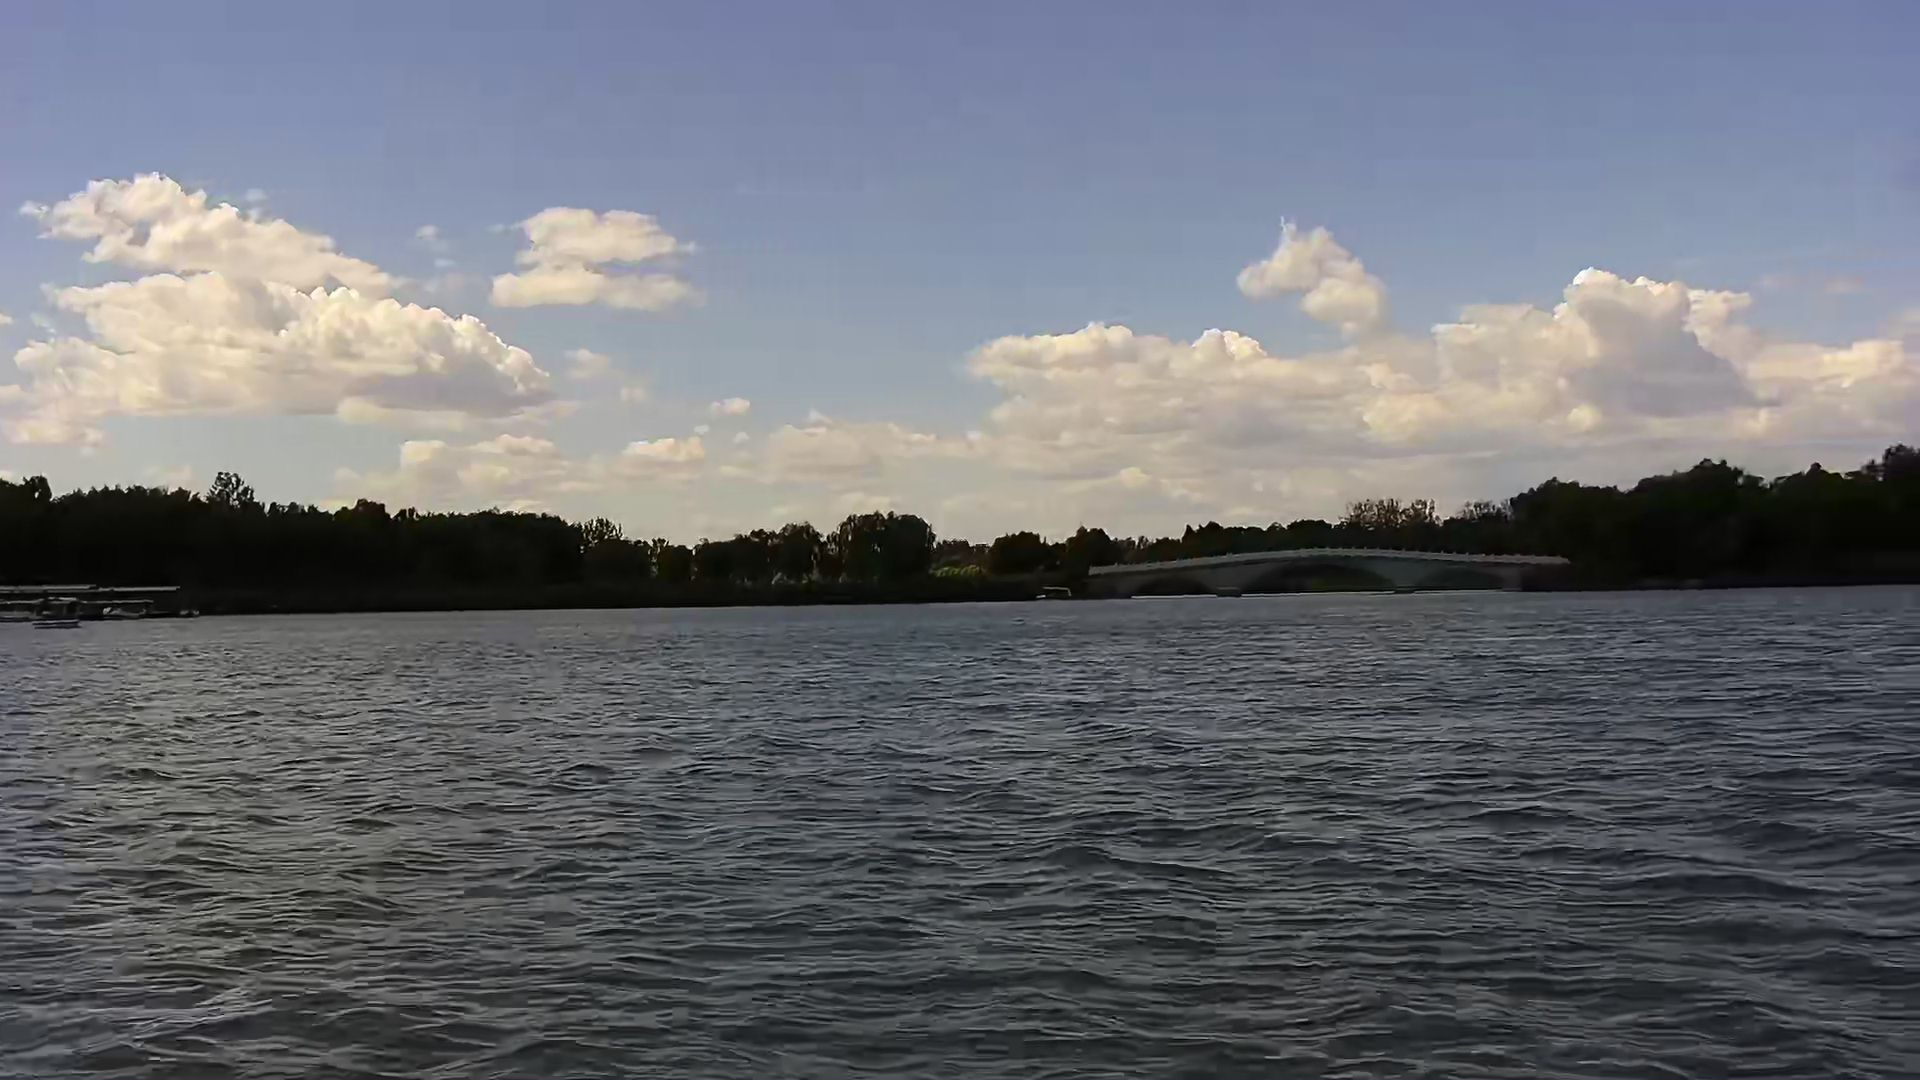boat: (25, 597, 88, 636)
bridge: (1088, 545, 1572, 603)
harbor: (1, 578, 193, 618)
